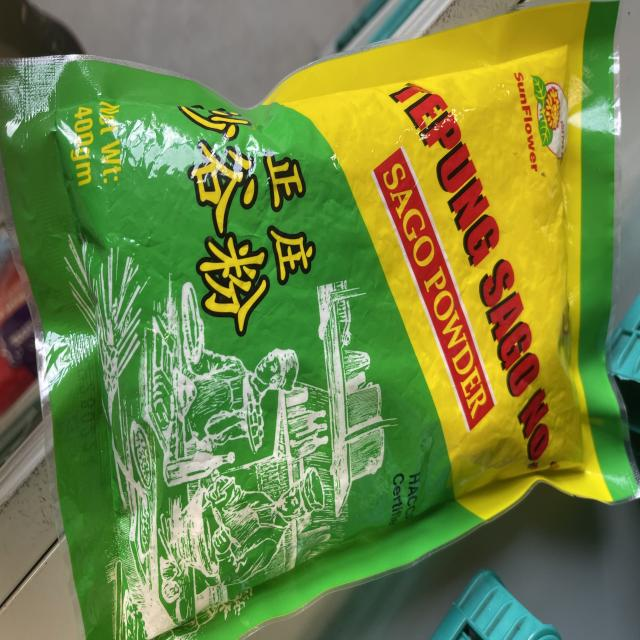object_name: (41, 63, 614, 491)
